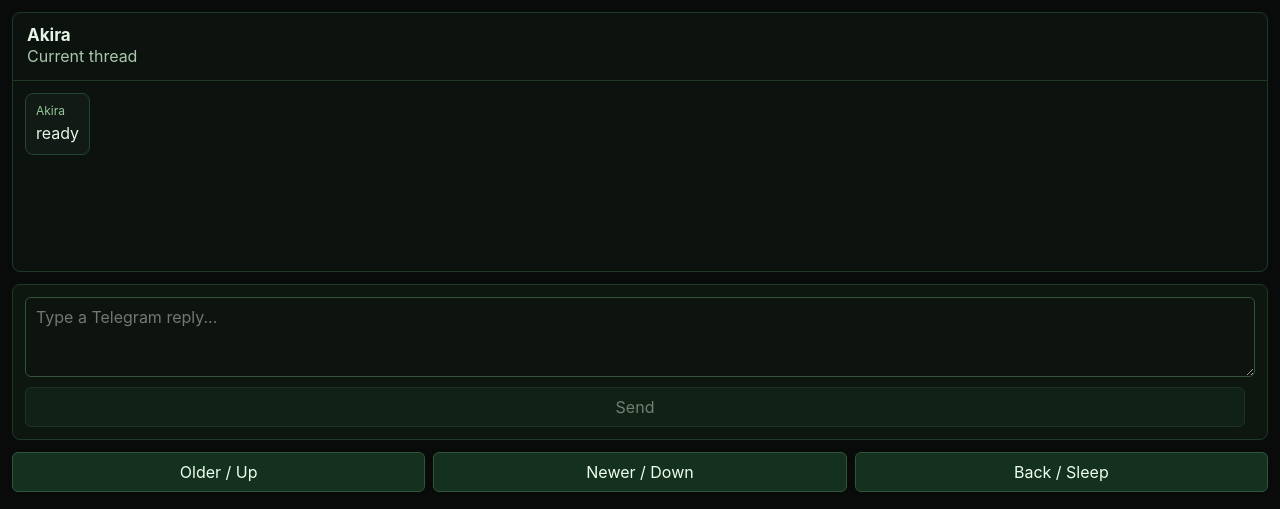
Scenario: ChatScreen › re-enables the composer after a phone send completes
The width and height of the screenshot is (1280, 509).
Step 1. Type "hello" into the text box with placeholder "Type a Telegram reply..." → coordinates (640, 337), box [25, 297, 1255, 377]
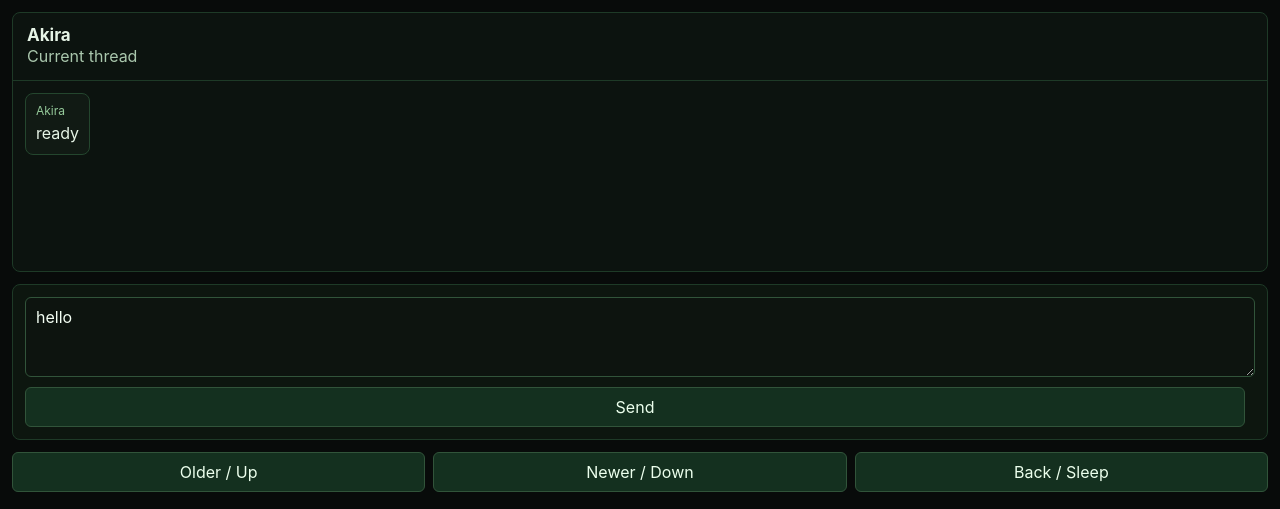
Step 2. Submit the form with placeholder "Type a Telegram reply...", box [12, 284, 1268, 440]
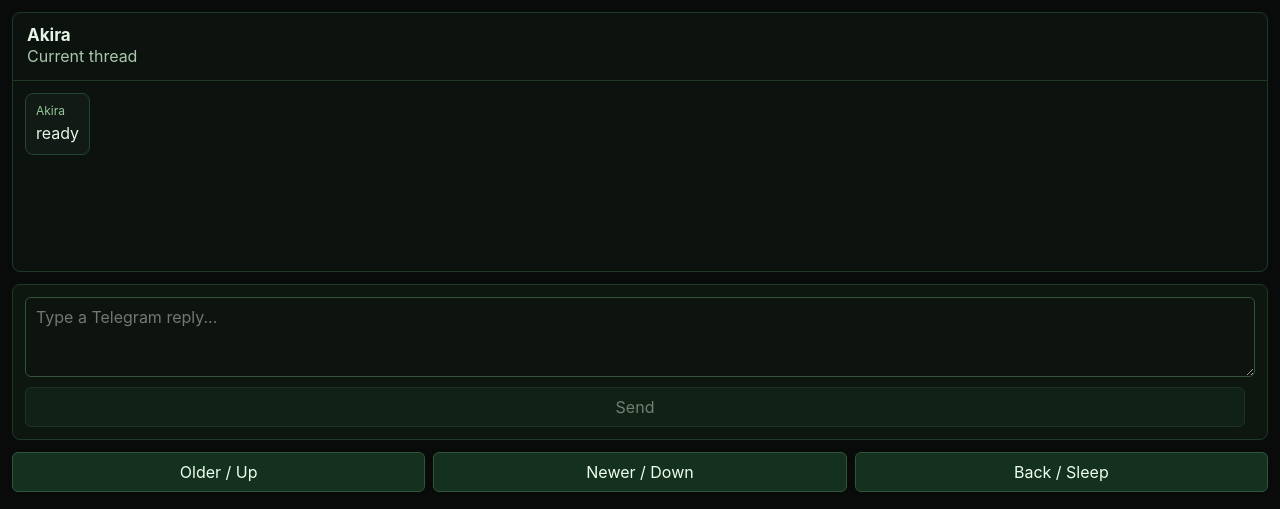
Expected: the text box with placeholder "Type a Telegram reply..." is enabled, [25, 297, 1255, 377]
Expected: the button named "Sending..." is disabled, [25, 387, 1245, 427]
